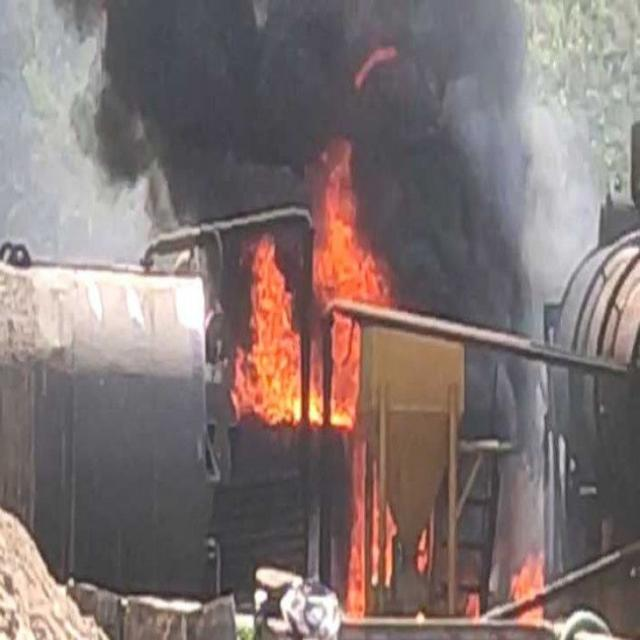fire: (229, 131, 395, 430), (341, 438, 398, 624), (502, 548, 550, 628), (455, 587, 486, 625), (417, 523, 432, 569)
